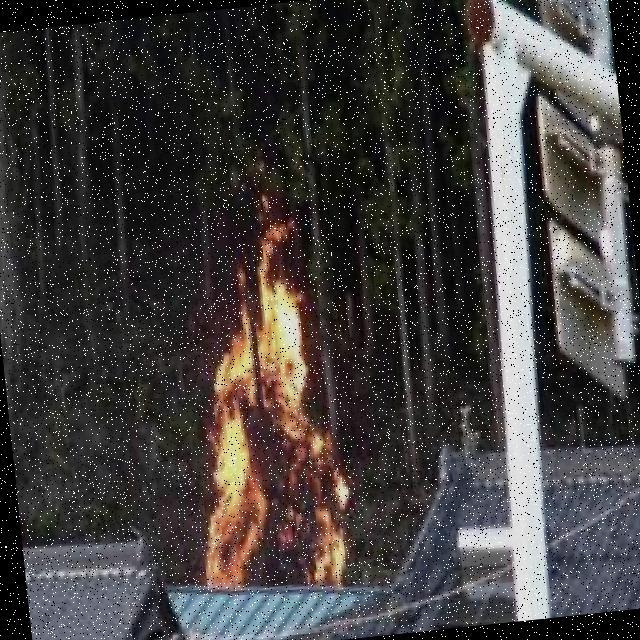Fire: (175, 213, 360, 591)
